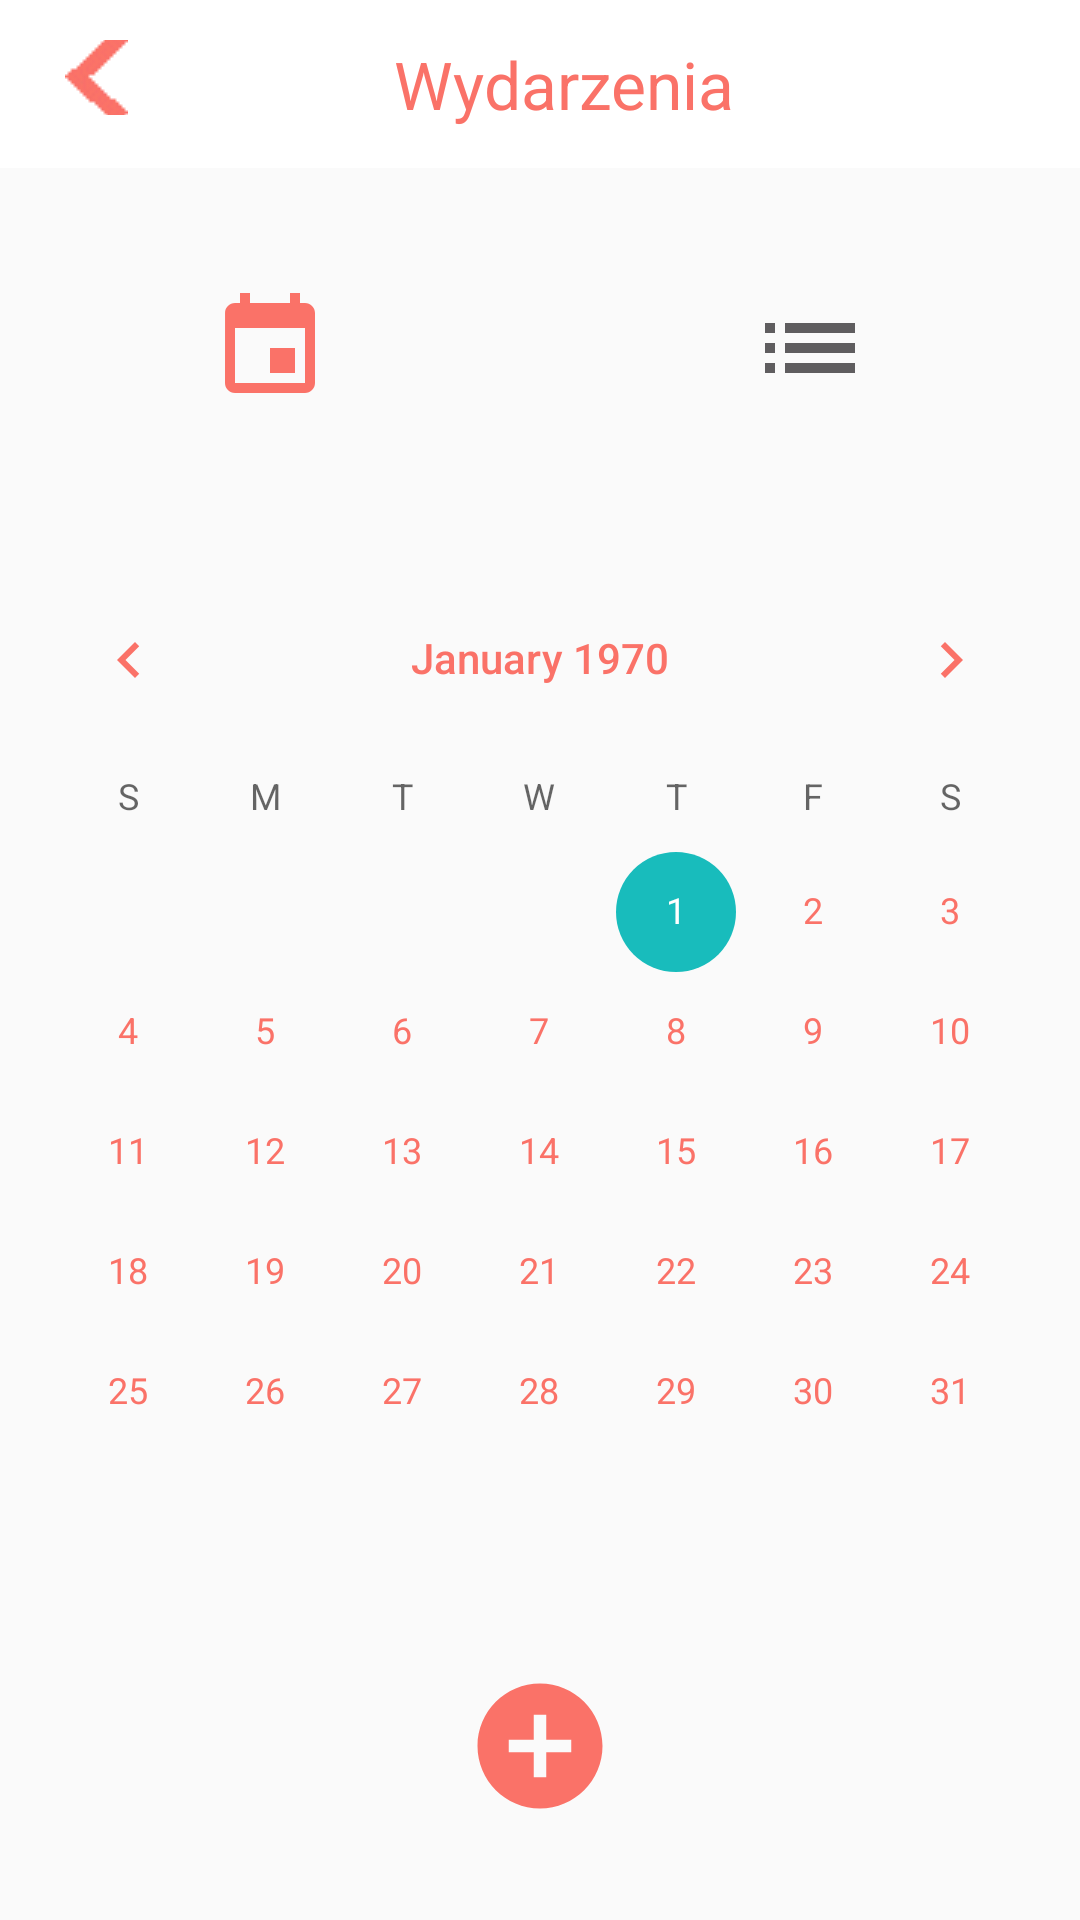

Where icons sit on this 1080w x 1920h app screen, as (x1,y1,x2,y2):
Dodaj wydarzenie: (477,1683,603,1809)
ikona powrotu: (65,40,128,115)
widok kalendarza: (225,293,315,393)
widok listy: (765,323,855,373)
